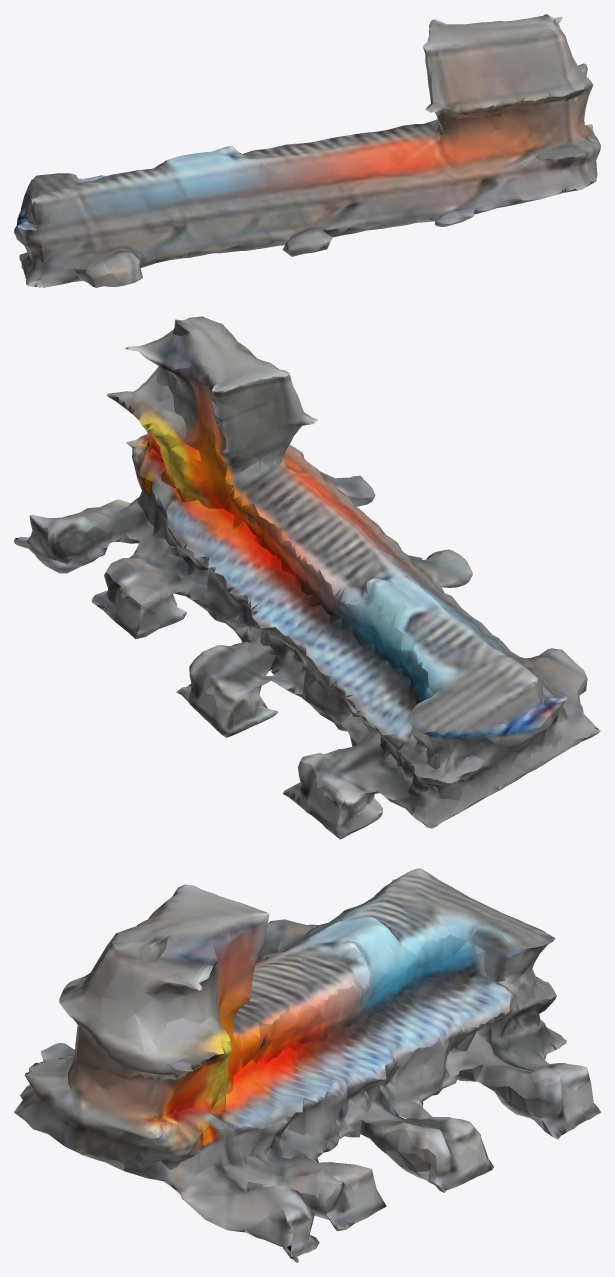
The model's file is 3d-cat-statue.glb.
3 views of the same model, one above another, from view 1: azimuth 30°, elevation 25°; view 2: azimuth 150°, elevation 25°; view 3: azimuth 270°, elevation 25° (orthographic). The views are drawn at different scales.
Visible parts, largest first — view 1: world; view 2: world; view 3: world.
Part boxes in pixels (x1=…): world: x1=14, y1=14, x2=600, y2=287; world: x1=14, y1=316, x2=600, y2=839; world: x1=14, y1=868, x2=600, y2=1262.
Size of the model in its own units: 0.9352 by 0.4505 by 0.63.
Materials: 1 (1 with a texture image).
